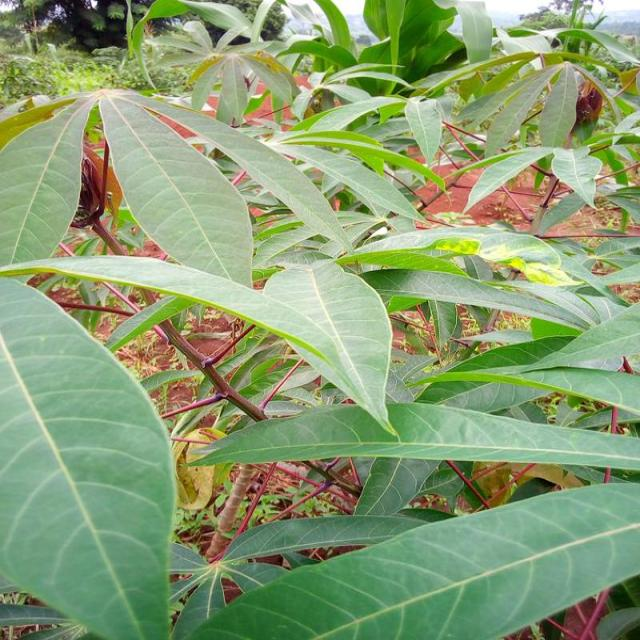cassava leaf: (1, 251, 396, 437), (186, 480, 638, 638), (0, 274, 177, 638), (98, 91, 255, 289)
